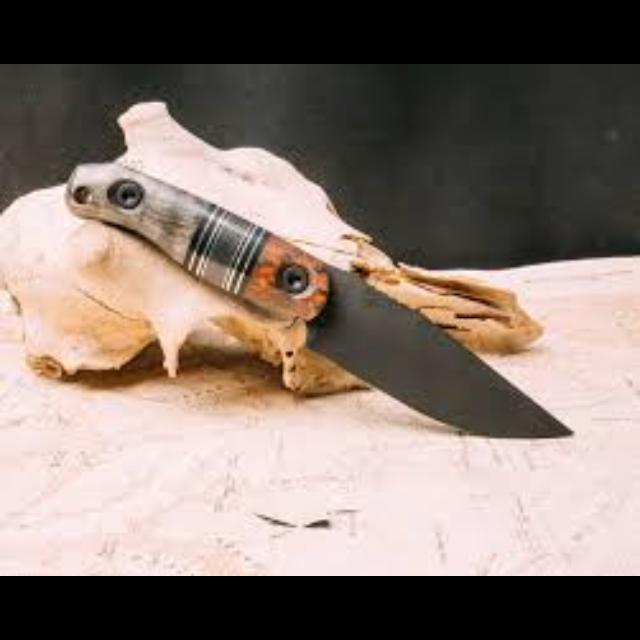Knife: (64, 156, 574, 438)
